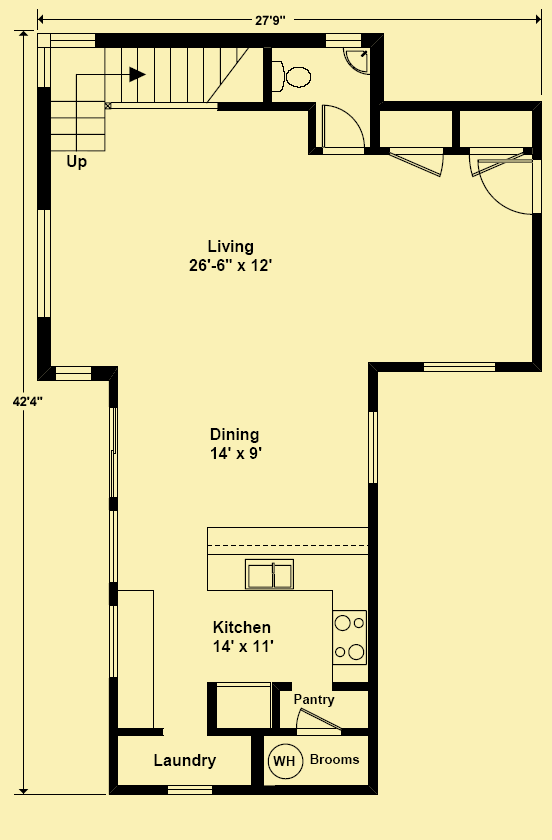door: (471, 155, 543, 217), (317, 103, 367, 155), (383, 144, 448, 179)
large_sink: (267, 57, 314, 96)
stairs: (43, 46, 262, 154)
twin_sink: (235, 556, 300, 591)
window: (102, 599, 125, 684), (35, 203, 51, 321), (415, 357, 504, 378), (105, 406, 121, 505), (363, 408, 383, 487), (159, 779, 221, 803), (105, 508, 119, 583)
